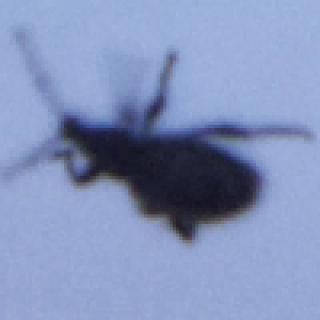bvw: (3, 29, 312, 244)
